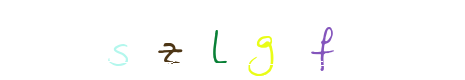F: (253, 0, 333, 80)
G: (223, 0, 303, 80)
L: (192, 0, 272, 80)
S: (129, 0, 209, 80)
Z: (176, 0, 256, 80)
